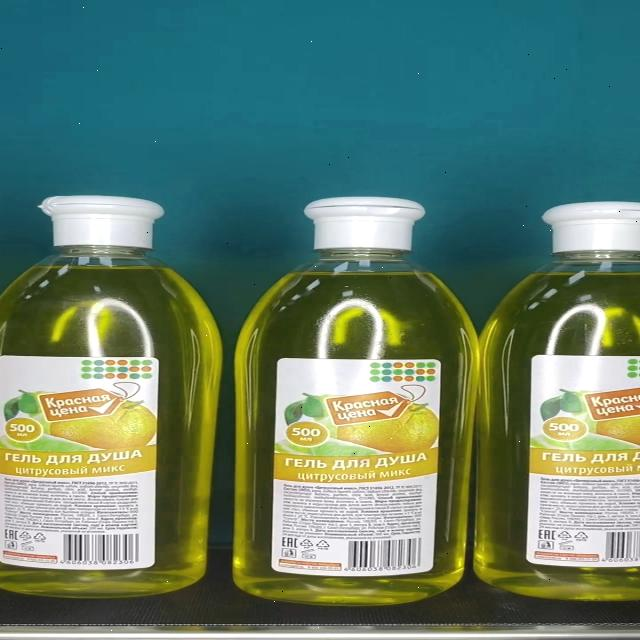Bottle: (234, 197, 478, 606), (0, 195, 224, 598)
Cap: (41, 195, 165, 249), (304, 198, 428, 250)
